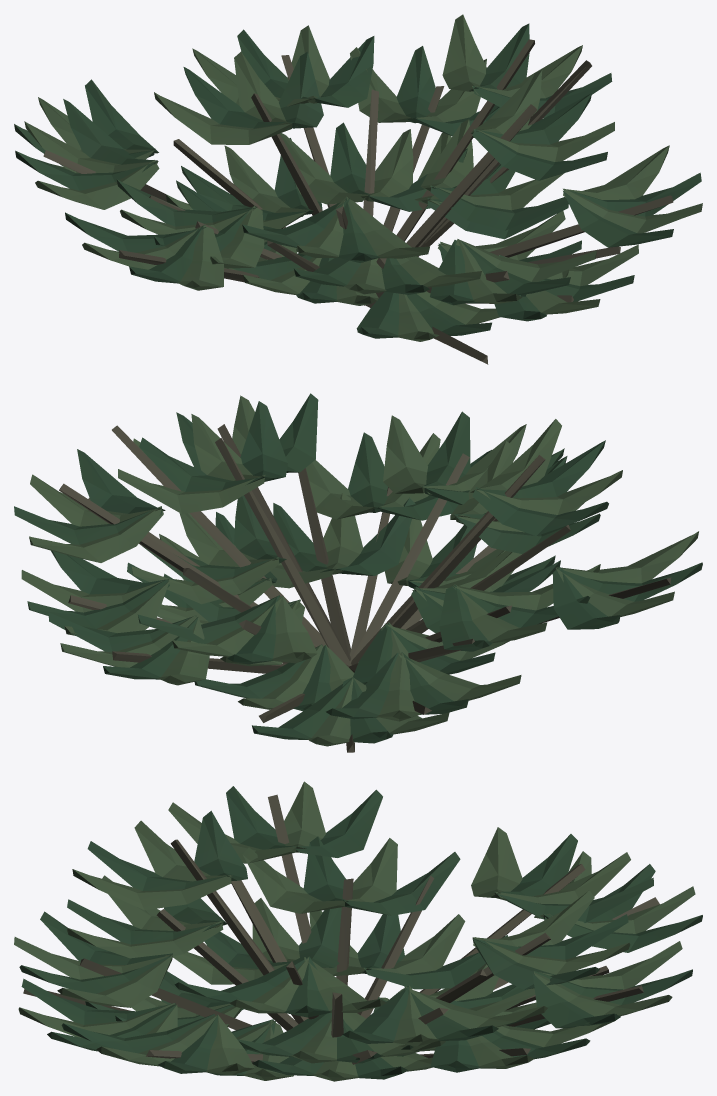
File: juniper_dry.glb
The picture shows the model from 3 angles, top to bottom: view 1: azimuth 30°, elevation 25°; view 2: azimuth 150°, elevation 25°; view 3: azimuth 270°, elevation 25°; orthographic projection. The views are drawn at different scales.
Parts seen in each view (by area): view 1: juniper_dry; view 2: juniper_dry; view 3: juniper_dry.
Boxes of the visible parts, bbox=[...] form: juniper_dry: bbox=[14, 14, 702, 364]; juniper_dry: bbox=[14, 393, 702, 752]; juniper_dry: bbox=[14, 781, 702, 1081].
Bounding box in the file's own units: 1.78 × 0.5762 × 1.91.
